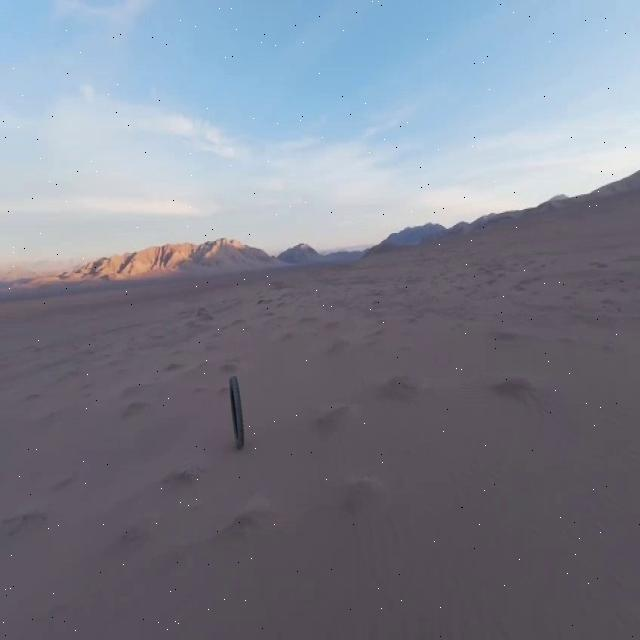Tire: (229, 376, 244, 449)
